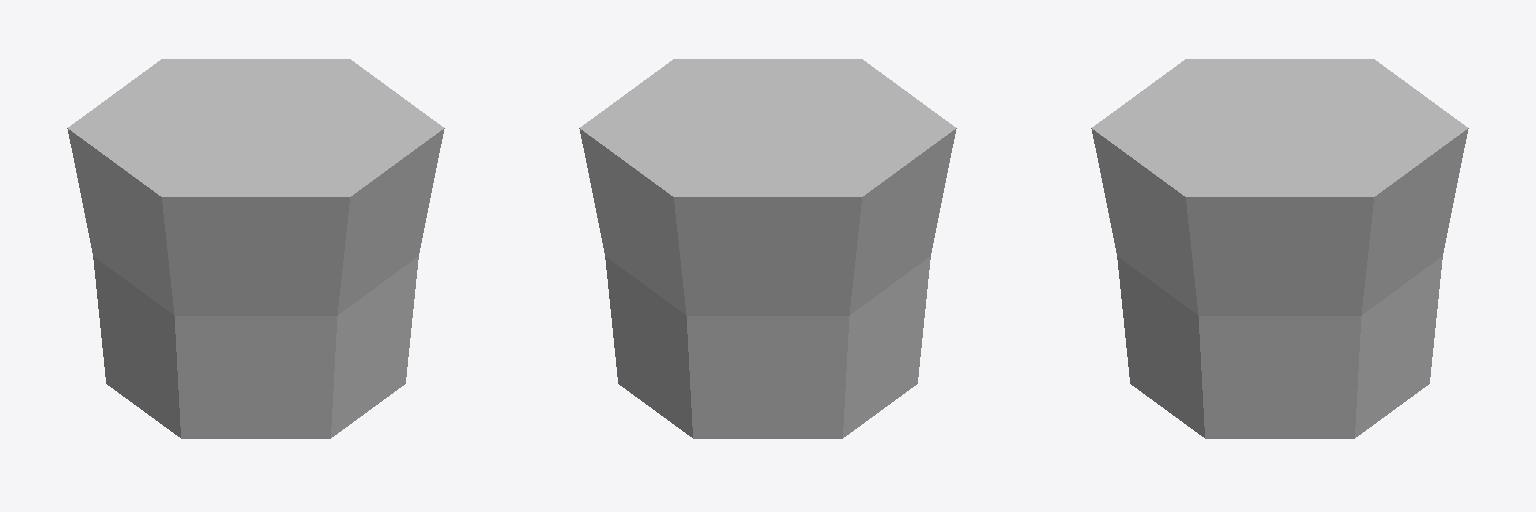
Rendered from Stopper_Normal.obj.
3 renders of one model, left to right at view 1: azimuth 30°, elevation 25°; view 2: azimuth 150°, elevation 25°; view 3: azimuth 270°, elevation 25°, orthographic.
Visible parts, largest first — view 1: Mesh1 Model; view 2: Mesh1 Model; view 3: Mesh1 Model.
Boxes of the visible parts, box(x1,y1,x2,y2) form: Mesh1 Model: box(67, 59, 444, 438); Mesh1 Model: box(579, 59, 956, 438); Mesh1 Model: box(1091, 59, 1468, 438).
Size of the model in its own units: 0.0232 by 0.02 by 0.0267.